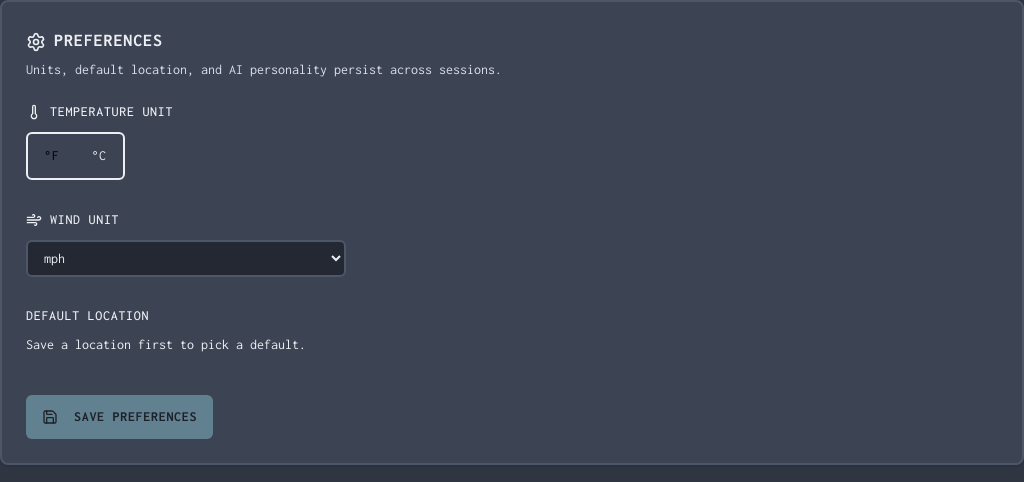
Test case: PreferencesPanel › persists a temperature unit change via the preferences API
Click the radio button labelled "°C" at (99, 156), box top-left (75, 134), bottom-right (123, 178)
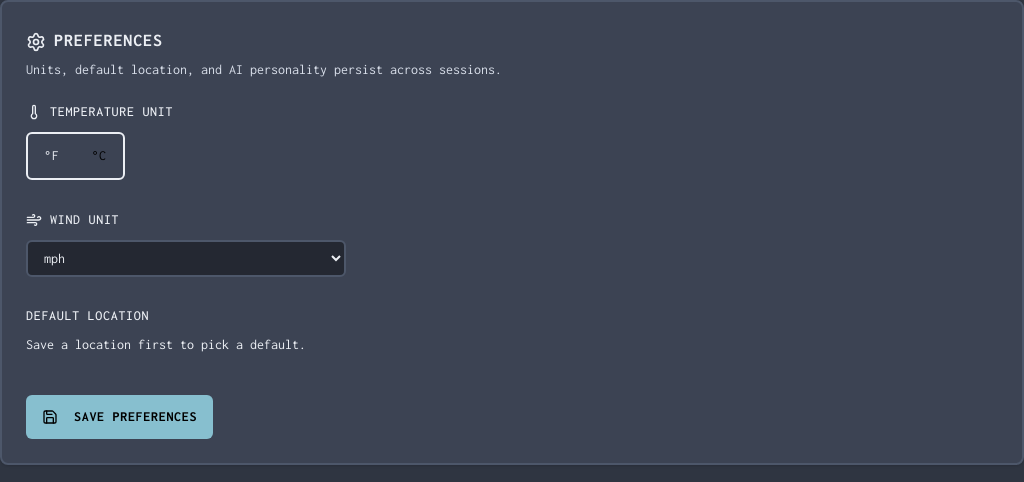
Check: the button "Save Preferences" is enabled
Click the button "Save Preferences" at (120, 417), box top-left (26, 395), bottom-right (213, 439)
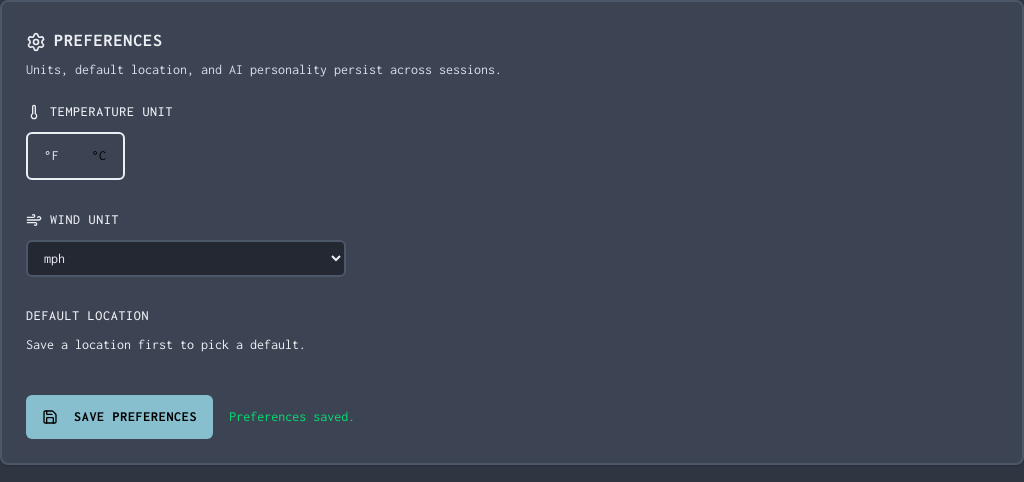
Check: the text "Preferences saved." is shown, box top-left (229, 407), bottom-right (355, 427)
